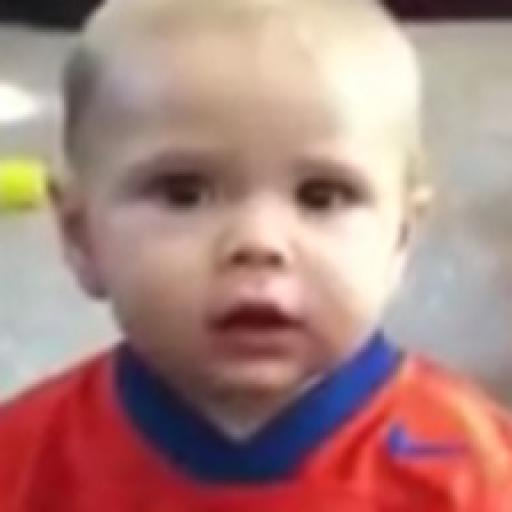Autism: (47, 8, 507, 444)
